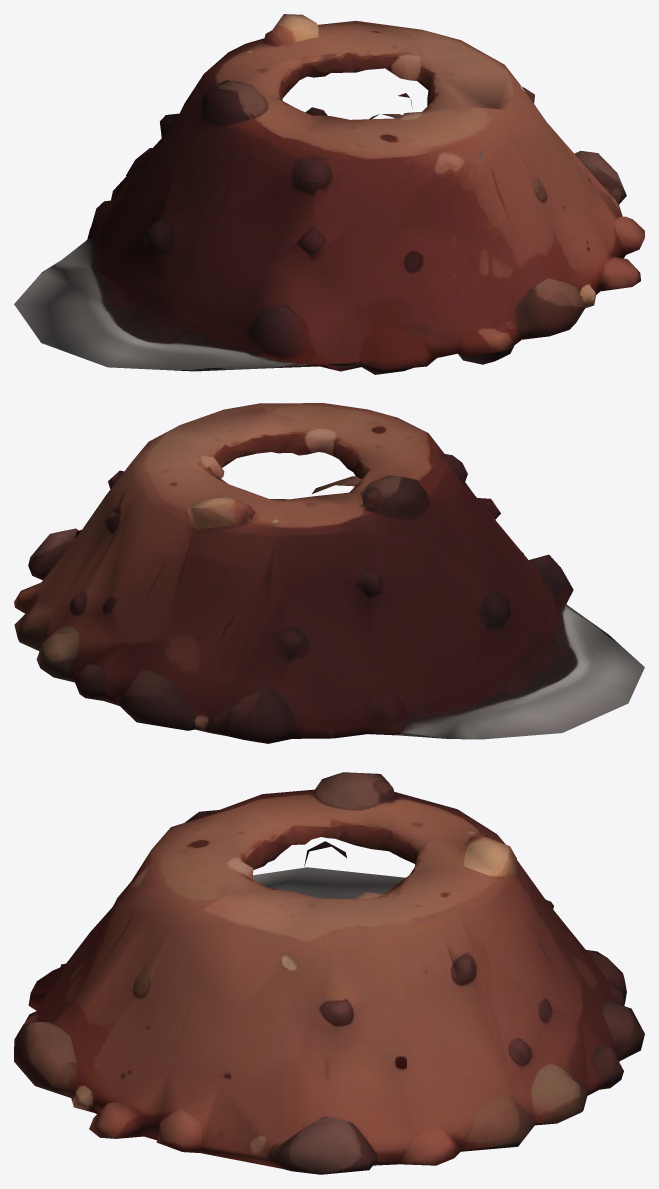
The model's file is burrow_mound.glb.
3 renders of one model, top to bottom at view 1: azimuth 30°, elevation 25°; view 2: azimuth 150°, elevation 25°; view 3: azimuth 270°, elevation 25°, orthographic. The views are drawn at different scales.
Parts seen in each view (by area): view 1: geometry_0; view 2: geometry_0; view 3: geometry_0.
Boxes of the visible parts, left/top/right/bottom form: geometry_0: left=14, top=14, right=644, bottom=374; geometry_0: left=14, top=403, right=644, bottom=743; geometry_0: left=14, top=772, right=644, bottom=1174.
Size of the model in its own units: 2.6 by 0.8691 by 2.17.
1 material, 1 textured.
